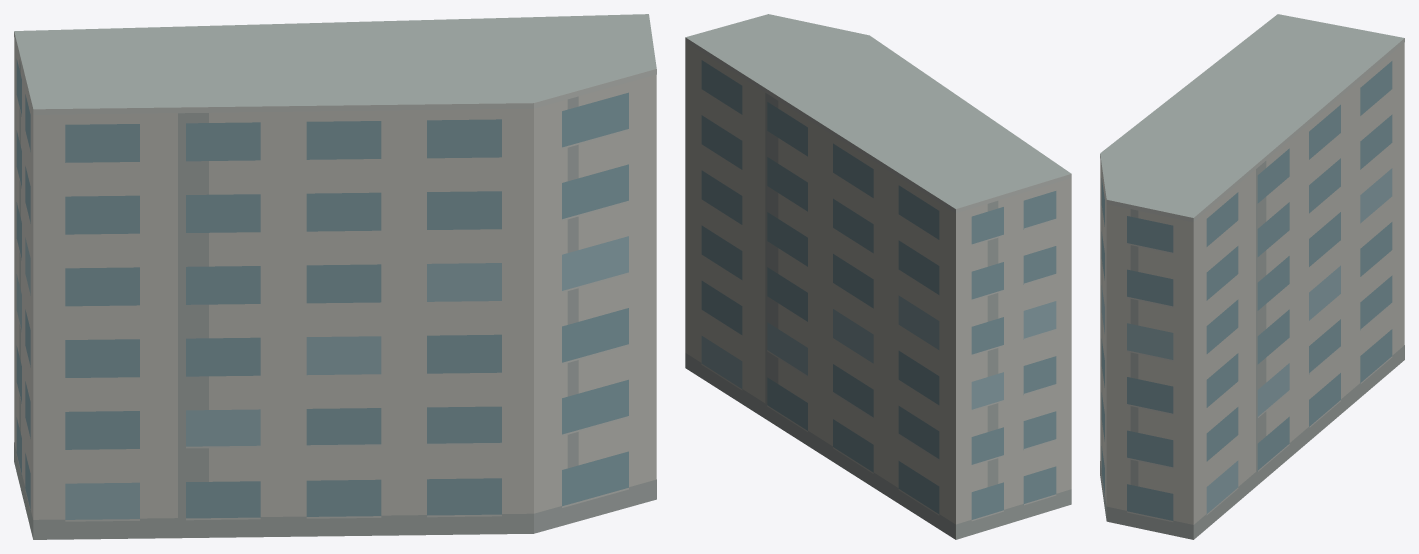
File: survey-upis-32942392.glb
3 renders of one model, left to right at view 1: azimuth 30°, elevation 25°; view 2: azimuth 150°, elevation 25°; view 3: azimuth 270°, elevation 25°, orthographic. The views are drawn at different scales.
Visible parts, largest first — view 1: survey-upis-32942392.tmp; view 2: survey-upis-32942392.tmp; view 3: survey-upis-32942392.tmp.
Boxes of the visible parts, x1=… form: survey-upis-32942392.tmp: x1=14, y1=14, x2=656, y2=539; survey-upis-32942392.tmp: x1=685, y1=14, x2=1071, y2=539; survey-upis-32942392.tmp: x1=1100, y1=14, x2=1404, y2=539.
Size of the model in its own units: 24.89 by 18.3 by 15.71.
